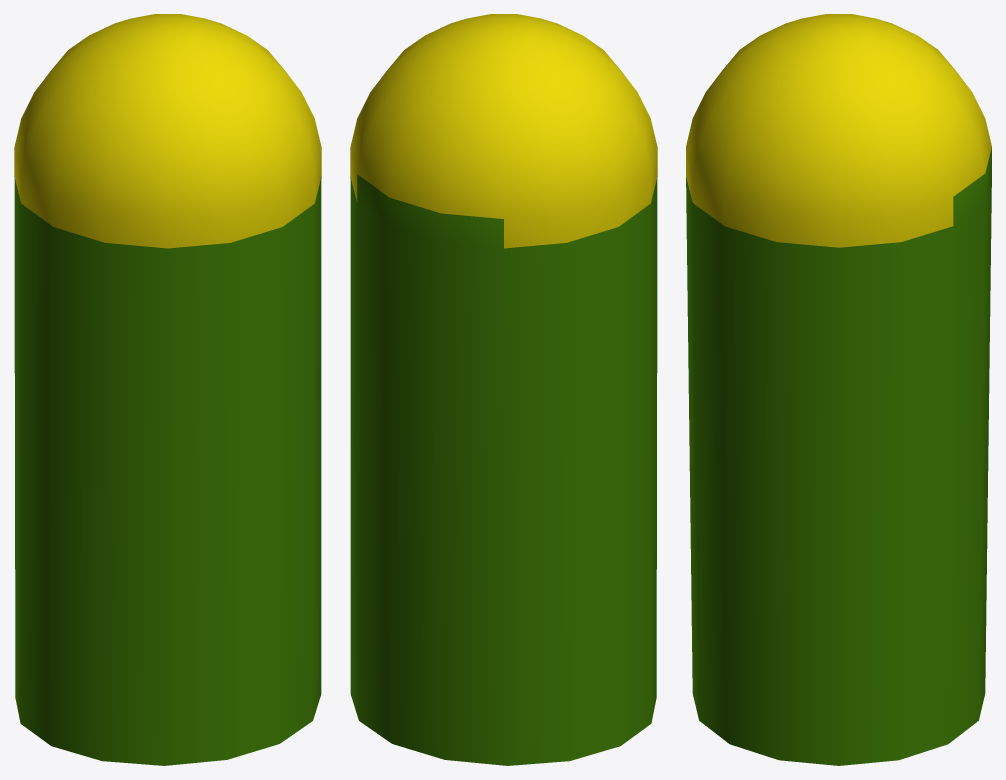
The model's file is Obstacle 2.fbx.
3 renders of one model, left to right at view 1: azimuth 30°, elevation 25°; view 2: azimuth 150°, elevation 25°; view 3: azimuth 270°, elevation 25°, orthographic.
Parts seen in each view (by area): view 1: Obstacle_2; view 2: Obstacle_2; view 3: Obstacle_2.
Part boxes in pixels (left/top/right/bottom): Obstacle_2: left=14, top=14, right=321, bottom=765; Obstacle_2: left=350, top=14, right=657, bottom=765; Obstacle_2: left=686, top=14, right=991, bottom=765.
Bounding box in the file's own units: 12.96 × 31.3 × 12.91.
